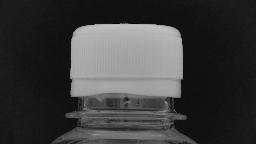Loose Cap: (60, 73, 192, 123)
